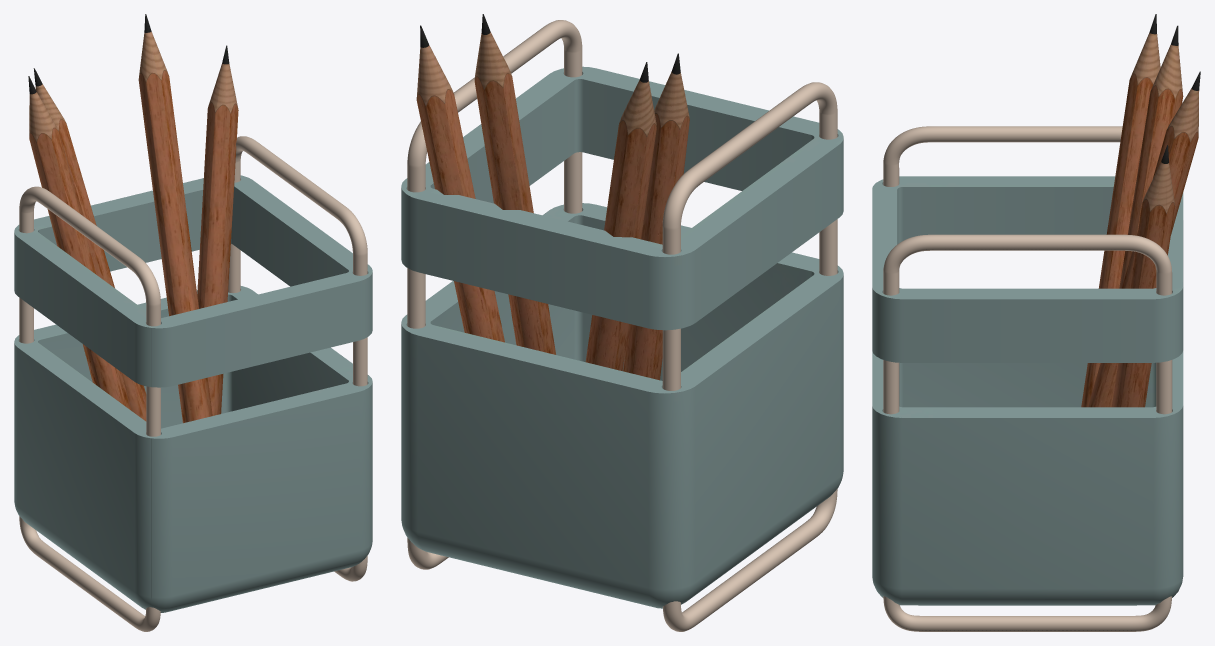
File: pencil_cup.glb
3 views of the same model, side by side, from view 1: azimuth 30°, elevation 25°; view 2: azimuth 150°, elevation 25°; view 3: azimuth 270°, elevation 25° (orthographic). The views are drawn at different scales.
Visible parts, largest first — view 1: Cube, Cylinder.001, Cube.001; view 2: Cube, Cylinder.001, Cube.001; view 3: Cube, Cylinder.001, Cube.001.
Part boxes in pixels (x1,y1,x2,y2): Cube: (14, 175, 372, 612); Cylinder.001: (28, 14, 238, 423); Cube.001: (19, 136, 367, 631); Cube: (401, 66, 843, 608); Cylinder.001: (416, 14, 689, 380); Cube.001: (407, 20, 837, 631); Cube: (872, 176, 1183, 605); Cylinder.001: (1081, 14, 1200, 407); Cube.001: (883, 126, 1172, 631).
Bounding box in the file's own units: 0.1013 × 0.2003 × 0.1142.
3 materials, 2 textured.
